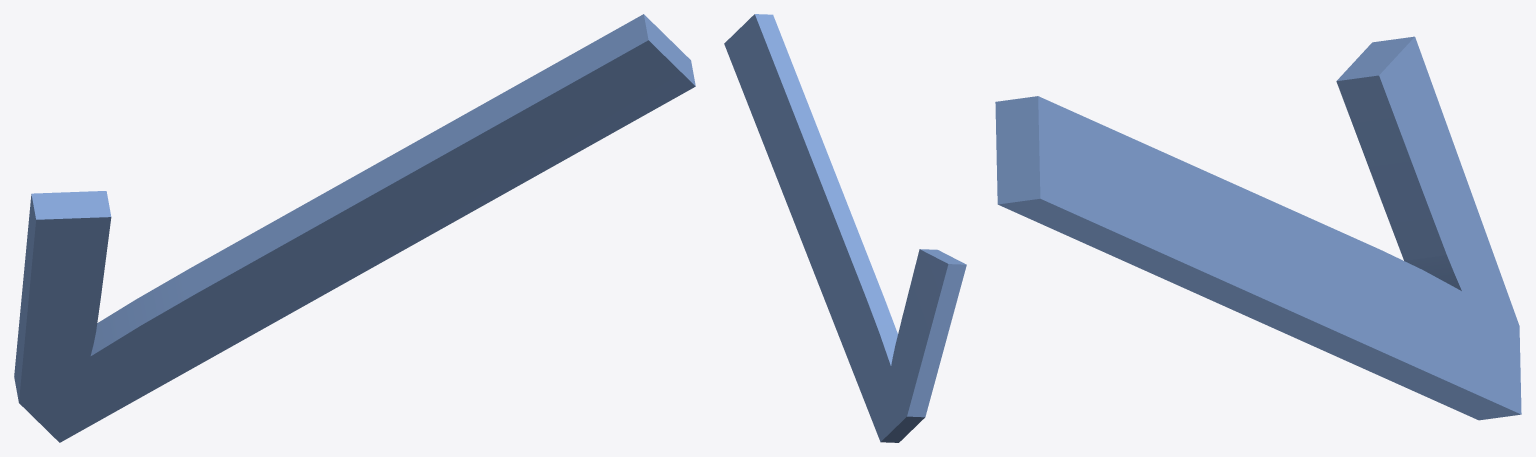
The model's file is New_Number_1.gltf.
The picture shows the model from 3 angles, left to right: view 1: azimuth 30°, elevation 25°; view 2: azimuth 150°, elevation 25°; view 3: azimuth 270°, elevation 25°; orthographic projection. The views are drawn at different scales.
Parts seen in each view (by area): view 1: Part 496; view 2: Part 496; view 3: Part 496.
Boxes of the visible parts, x1,y1,x2,y2 form: Part 496: [14, 14, 695, 442]; Part 496: [724, 14, 966, 442]; Part 496: [995, 36, 1521, 420].
Bounding box in the file's own units: 0.00394 × 0.00331 × 0.00275.
